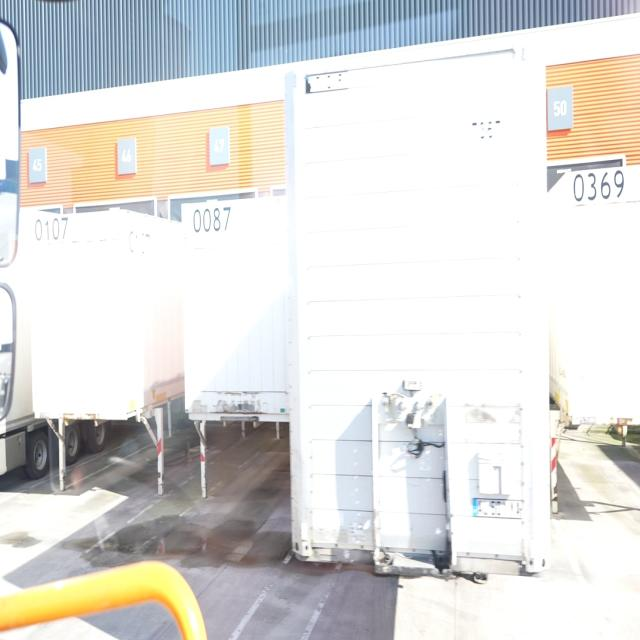Code: (572, 166, 630, 211), (191, 201, 232, 236), (31, 216, 72, 240)
